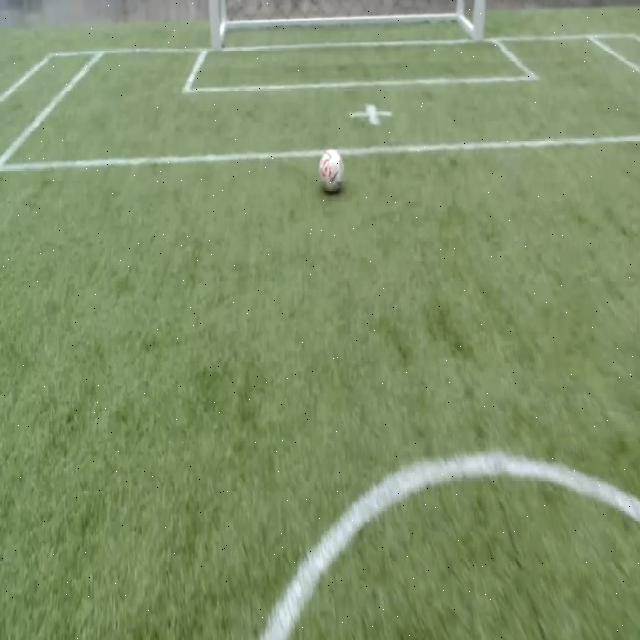ball: (320, 150, 344, 192)
goalpost: (468, 8, 486, 46), (209, 18, 225, 54)
